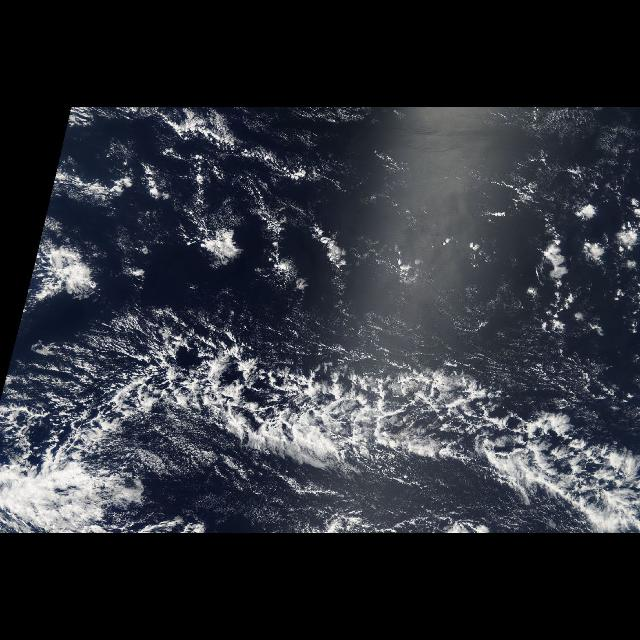Fish: (19, 291, 625, 534)
